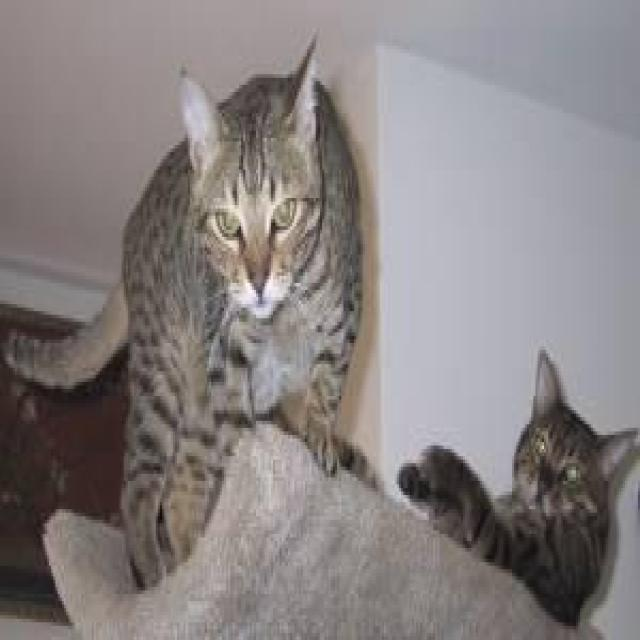cat: (6, 35, 367, 587), (399, 349, 640, 623)
